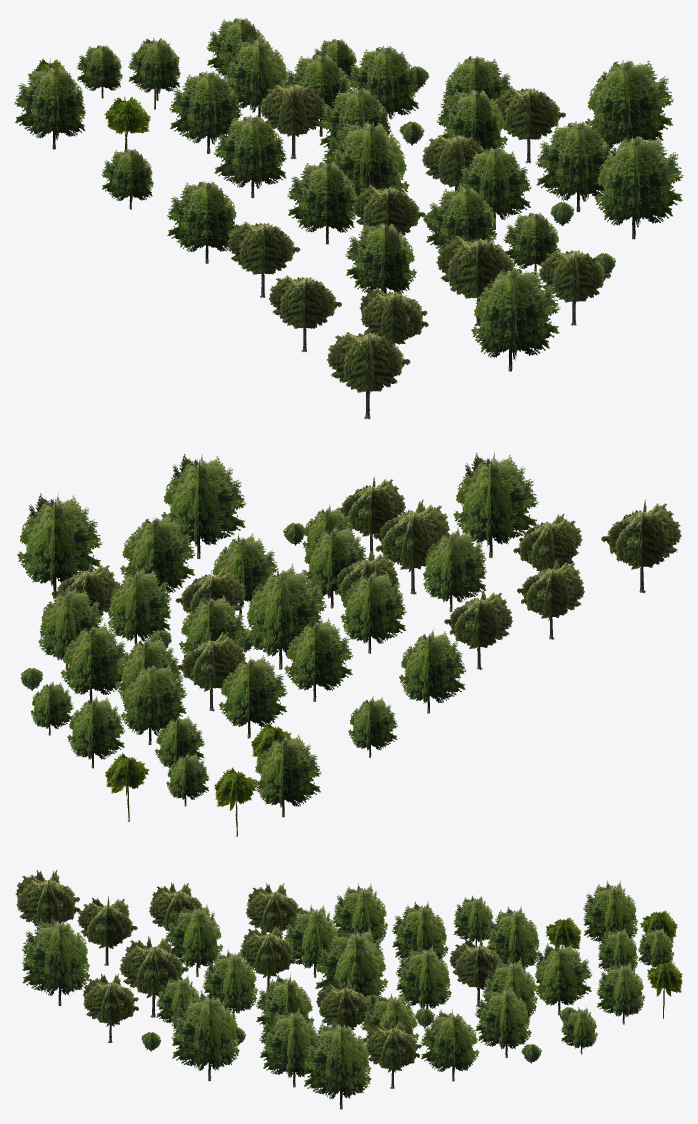
Rendered from ParkTreesChunk1.fbx.
3 renders of one model, top to bottom at view 1: azimuth 30°, elevation 25°; view 2: azimuth 150°, elevation 25°; view 3: azimuth 270°, elevation 25°, orthographic. The views are drawn at different scales.
Visible parts, largest first — view 1: TreesPack.006; view 2: TreesPack.006; view 3: TreesPack.006.
Boxes of the visible parts, x1=… form: TreesPack.006: x1=14, y1=18, x2=683, y2=419; TreesPack.006: x1=17, y1=451, x2=681, y2=836; TreesPack.006: x1=15, y1=870, x2=682, y2=1109.
Size of the model in its own units: 9629 by 2308 by 13299.
